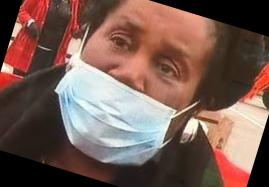mask_weared_incorrect: (69, 14, 205, 153)
